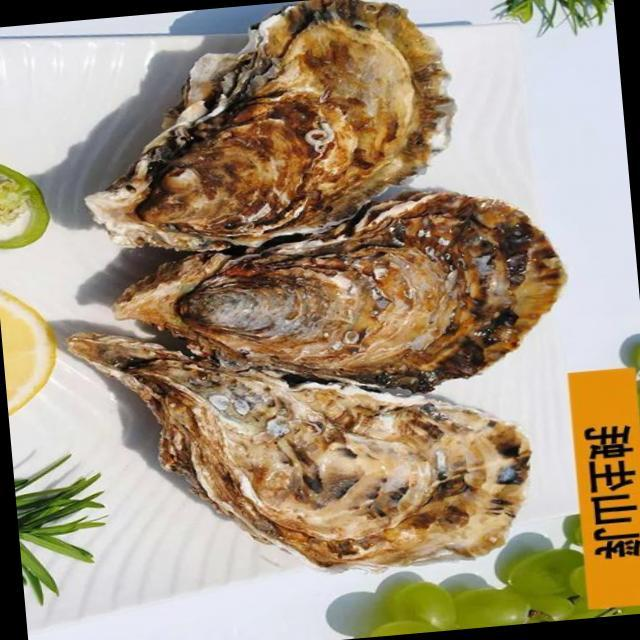Oyster- Indeterminate: (60, 291, 538, 600), (101, 179, 578, 418), (62, 0, 467, 264)
